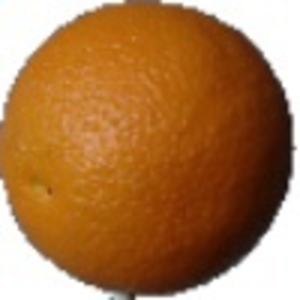laranja: (3, 2, 296, 297)
